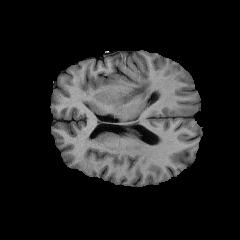glioma: (113, 79, 154, 114)
